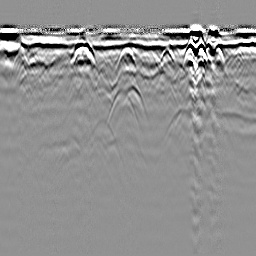cavity: (115, 42, 136, 73)
